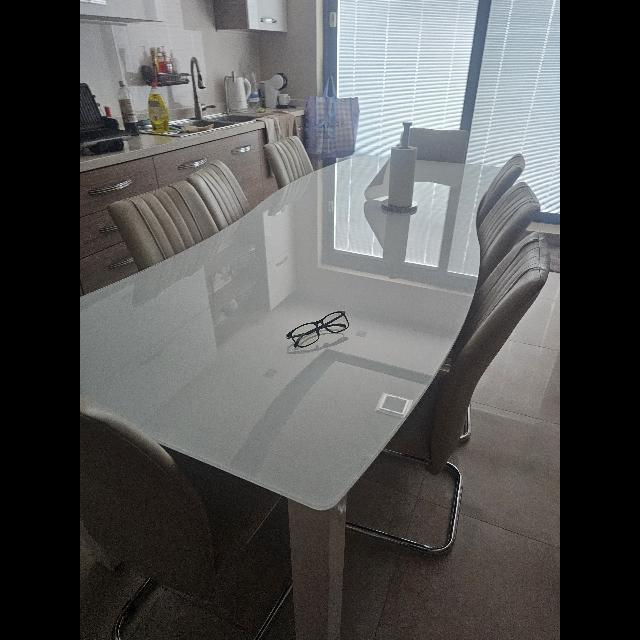glasses: (286, 310, 350, 348)
